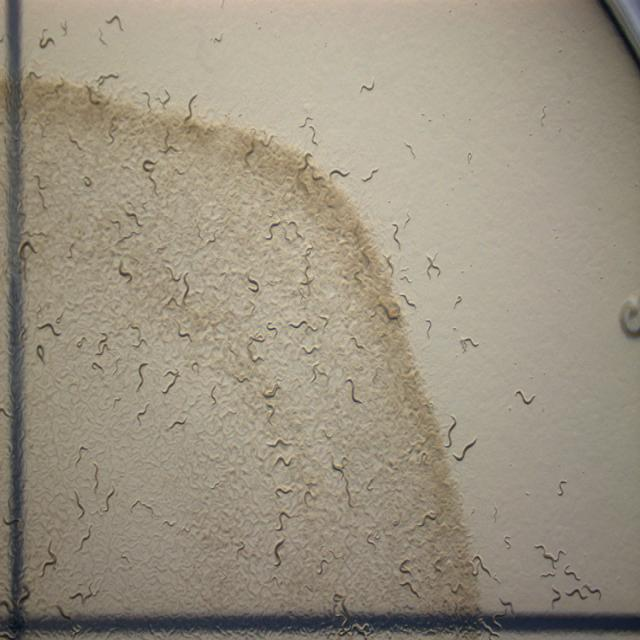filarid: (535, 544, 566, 576), (268, 437, 292, 467), (40, 541, 58, 577), (452, 437, 476, 460), (454, 437, 476, 460), (161, 369, 180, 395), (345, 377, 362, 404), (101, 485, 115, 512), (426, 252, 440, 278), (136, 362, 148, 391), (515, 389, 536, 405), (276, 509, 291, 531), (78, 526, 91, 551), (446, 415, 456, 446), (74, 490, 85, 518), (460, 335, 479, 351), (274, 536, 284, 566), (400, 581, 420, 596), (38, 322, 60, 335), (119, 260, 132, 282), (361, 167, 379, 182), (75, 445, 88, 465), (248, 270, 259, 292), (166, 418, 186, 430), (392, 224, 401, 249), (275, 484, 292, 497), (264, 385, 279, 398), (266, 400, 275, 421), (565, 567, 579, 580), (399, 559, 411, 574), (93, 464, 99, 493), (138, 404, 148, 420), (558, 479, 566, 495), (402, 212, 410, 228), (210, 385, 216, 404), (454, 295, 461, 308), (505, 536, 510, 547), (427, 320, 431, 333)
